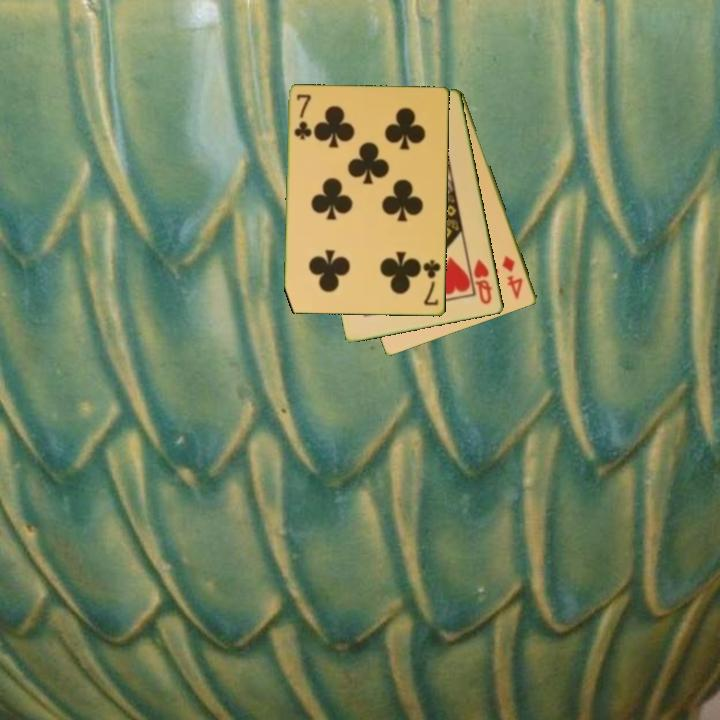4d: (499, 251, 526, 302)
7c: (420, 256, 444, 309), (291, 91, 314, 143)
Qh: (470, 256, 495, 307)
